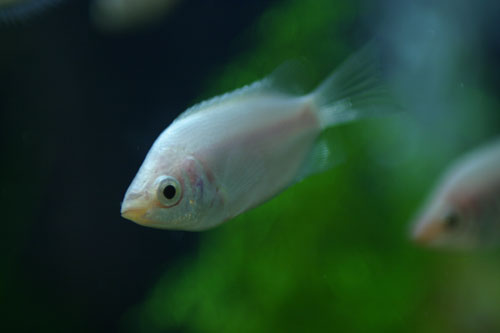kiss: (114, 79, 342, 231)
